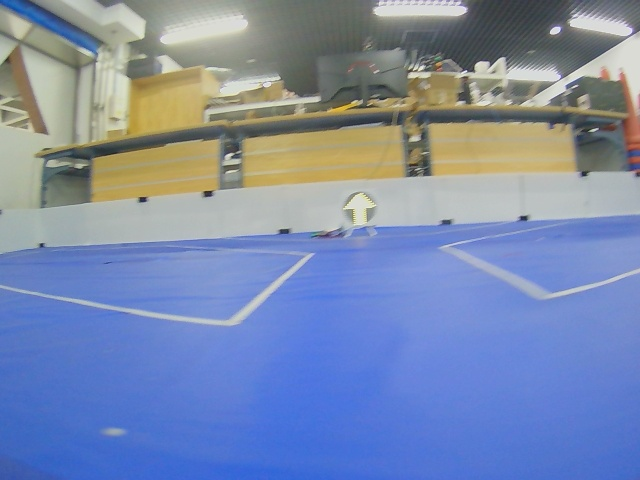straight_yellow: (343, 192, 377, 227)
